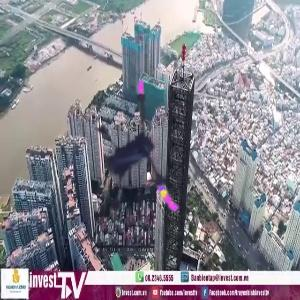drone: (66, 94, 215, 243)
